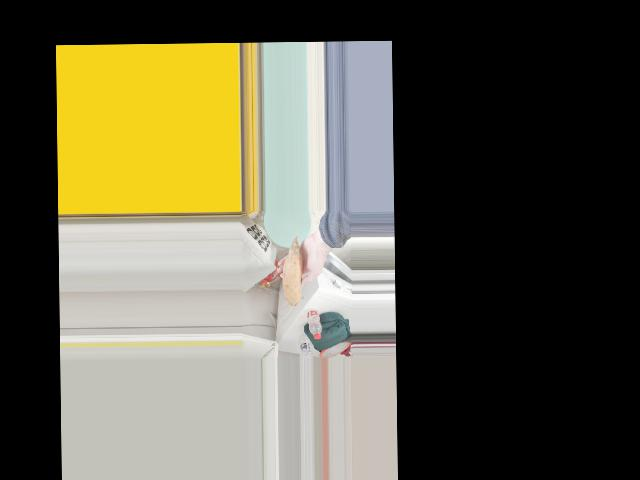sweet_potato: (282, 250, 307, 311)
